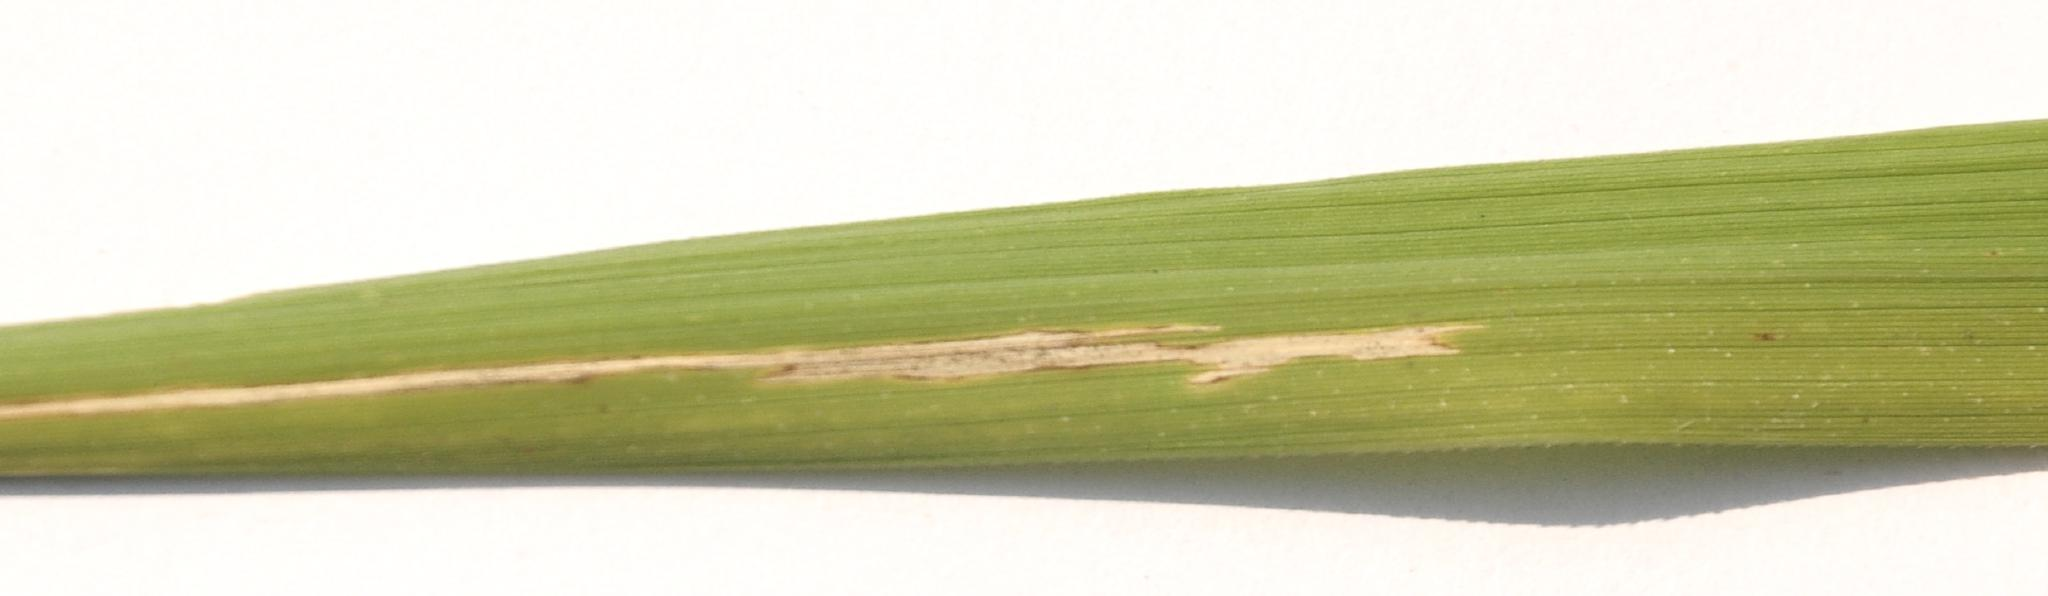2 BacterialBlight: (150, 293, 1509, 417)
